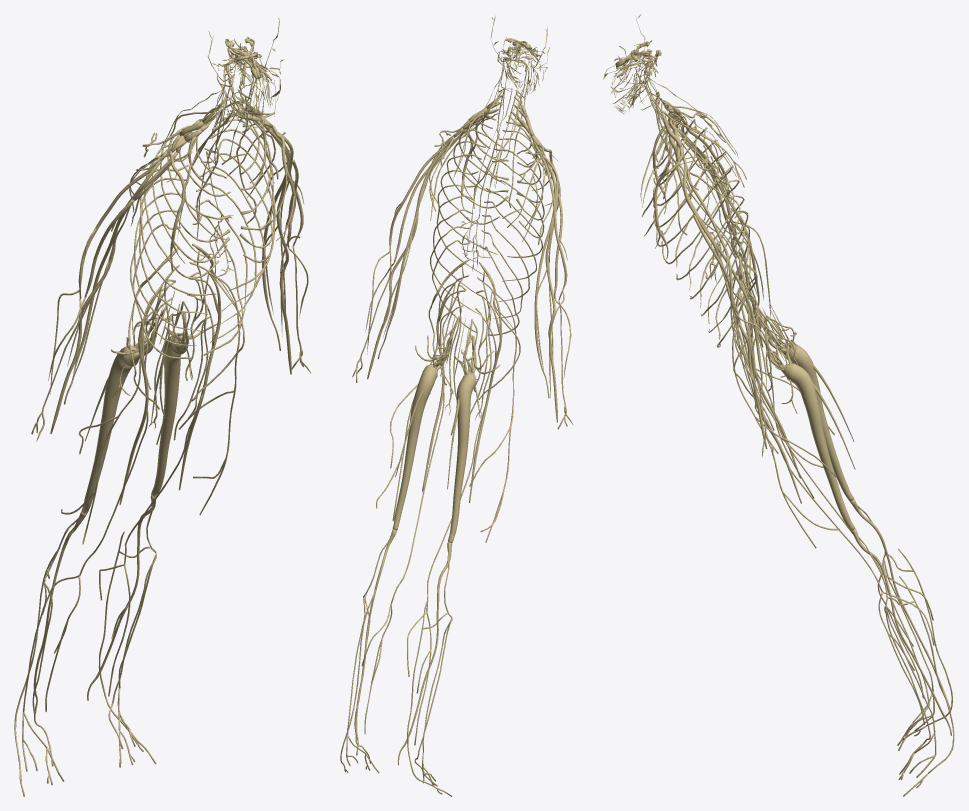
Rendered from atlas_nervous_mni152.peripheral.LOD4.glb.
The picture shows the model from 3 angles, left to right: view 1: azimuth 30°, elevation 25°; view 2: azimuth 150°, elevation 25°; view 3: azimuth 270°, elevation 25°; orthographic projection. The views are drawn at different scales.
Visible parts, largest first — view 1: ATLAS.NERVOUS.MNI152.PERIPHERAL.INTERCOSTAL_NERVES_RIGHT.R, ATLAS.NERVOUS.MNI152.PERIPHERAL.INTERCOSTAL_NERVES_LEFT.L, ATLAS.NERVOUS.MNI152.PERIPHERAL.SCIATIC_NERVE_RIGHT.R, ATLAS.NERVOUS.MNI152.PERIPHERAL.LUMBOSACRAL_PLEXUS_PROXIMAL_ (×2), ATLAS.NERVOUS.MNI152.PERIPHERAL.SCIATIC_NERVE_LEFT.L, ATLAS.NERVOUS.MNI152.PERIPHERAL.MEDIAL_AND_LATERAL_PECTORAL_ (×2), ATLAS.NERVOUS.MNI152.PERIPHERAL.LATERAL_FEMORAL_CUTANEOUS_NE (×2), ATLAS.NERVOUS.MNI152.PERIPHERAL.MEDIAN_NERVE_RIGHT.R, ATLAS.NERVOUS.MNI152.PERIPHERAL.FEMORAL_NERVE_LEFT.L, ATLAS.NERVOUS.MNI152.PERIPHERAL.SAPHENOUS_NERVE_LEFT.L, ATLAS.NERVOUS.MNI152.PERIPHERAL.FEMORAL_NERVE_RIGHT.R, ATLAS.NERVOUS.MNI152.PERIPHERAL.MEDIAN_NERVE_LEFT.L (+13 smaller); view 2: ATLAS.NERVOUS.MNI152.PERIPHERAL.INTERCOSTAL_NERVES_LEFT.L, ATLAS.NERVOUS.MNI152.PERIPHERAL.INTERCOSTAL_NERVES_RIGHT.R, ATLAS.NERVOUS.MNI152.PERIPHERAL.SCIATIC_NERVE_RIGHT.R, ATLAS.NERVOUS.MNI152.PERIPHERAL.LUMBOSACRAL_PLEXUS_PROXIMAL_ (×2), ATLAS.NERVOUS.MNI152.PERIPHERAL.SCIATIC_NERVE_LEFT.L, ATLAS.NERVOUS.MNI152.PERIPHERAL.LATERAL_FEMORAL_CUTANEOUS_NE (×2), ATLAS.NERVOUS.MNI152.PERIPHERAL.SAPHENOUS_NERVE_LEFT.L, ATLAS.NERVOUS.MNI152.PERIPHERAL.SAPHENOUS_NERVE_RIGHT.R, ATLAS.NERVOUS.MNI152.PERIPHERAL.FEMORAL_NERVE_RIGHT.R, ATLAS.NERVOUS.MNI152.PERIPHERAL.MEDIAN_NERVE_RIGHT.R, ATLAS.NERVOUS.MNI152.PERIPHERAL.FEMORAL_NERVE_LEFT.L, ATLAS.NERVOUS.MNI152.PERIPHERAL.ULNAR_NERVE_LEFT.L (+10 smaller); view 3: ATLAS.NERVOUS.MNI152.PERIPHERAL.SCIATIC_NERVE_LEFT.L, ATLAS.NERVOUS.MNI152.PERIPHERAL.INTERCOSTAL_NERVES_LEFT.L, ATLAS.NERVOUS.MNI152.PERIPHERAL.INTERCOSTAL_NERVES_RIGHT.R, ATLAS.NERVOUS.MNI152.PERIPHERAL.LUMBOSACRAL_PLEXUS_PROXIMAL_ (×2), ATLAS.NERVOUS.MNI152.PERIPHERAL.SCIATIC_NERVE_RIGHT.R, ATLAS.NERVOUS.MNI152.PERIPHERAL.SAPHENOUS_NERVE_RIGHT.R, ATLAS.NERVOUS.MNI152.PERIPHERAL.SAPHENOUS_NERVE_LEFT.L, ATLAS.NERVOUS.MNI152.PERIPHERAL.LATERAL_FEMORAL_CUTANEOUS_NE, ATLAS.NERVOUS.MNI152.PERIPHERAL.MEDIAN_NERVE_LEFT.L, ATLAS.NERVOUS.MNI152.PERIPHERAL.ULNAR_NERVE_LEFT.L, ATLAS.NERVOUS.MNI152.PERIPHERAL.TIBIAL_NERVE_LEFT.L, ATLAS.NERVOUS.MNI152.PERIPHERAL.FEMORAL_NERVE_LEFT.L (+2 smaller).
Boxes of the visible parts, x1,y1,x2,y2 form: ATLAS.NERVOUS.MNI152.PERIPHERAL.INTERCOSTAL_NERVES_RIGHT.R: [130, 122, 230, 358]; ATLAS.NERVOUS.MNI152.PERIPHERAL.INTERCOSTAL_NERVES_LEFT.L: [192, 113, 275, 355]; ATLAS.NERVOUS.MNI152.PERIPHERAL.SCIATIC_NERVE_RIGHT.R: [81, 318, 157, 514]; ATLAS.NERVOUS.MNI152.PERIPHERAL.LUMBOSACRAL_PLEXUS_PROXIMAL_ (×2): [111, 244, 244, 409]; ATLAS.NERVOUS.MNI152.PERIPHERAL.SCIATIC_NERVE_LEFT.L: [151, 312, 188, 497]; ATLAS.NERVOUS.MNI152.PERIPHERAL.MEDIAL_AND_LATERAL_PECTORAL_ (×2): [166, 121, 296, 269]; ATLAS.NERVOUS.MNI152.PERIPHERAL.LATERAL_FEMORAL_CUTANEOUS_NE (×2): [61, 272, 240, 544]; ATLAS.NERVOUS.MNI152.PERIPHERAL.MEDIAN_NERVE_RIGHT.R: [50, 151, 167, 433]; ATLAS.NERVOUS.MNI152.PERIPHERAL.FEMORAL_NERVE_LEFT.L: [178, 261, 221, 490]; ATLAS.NERVOUS.MNI152.PERIPHERAL.SAPHENOUS_NERVE_LEFT.L: [99, 394, 202, 696]; ATLAS.NERVOUS.MNI152.PERIPHERAL.FEMORAL_NERVE_RIGHT.R: [119, 265, 179, 504]; ATLAS.NERVOUS.MNI152.PERIPHERAL.MEDIAN_NERVE_LEFT.L: [269, 127, 293, 374]; ATLAS.NERVOUS.MNI152.PERIPHERAL.INTERCOSTAL_NERVES_LEFT.L: [430, 118, 508, 332]; ATLAS.NERVOUS.MNI152.PERIPHERAL.INTERCOSTAL_NERVES_RIGHT.R: [479, 122, 544, 335]; ATLAS.NERVOUS.MNI152.PERIPHERAL.SCIATIC_NERVE_RIGHT.R: [448, 335, 476, 542]; ATLAS.NERVOUS.MNI152.PERIPHERAL.LUMBOSACRAL_PLEXUS_PROXIMAL_ (×2): [415, 259, 520, 417]; ATLAS.NERVOUS.MNI152.PERIPHERAL.SCIATIC_NERVE_LEFT.L: [392, 333, 450, 530]; ATLAS.NERVOUS.MNI152.PERIPHERAL.LATERAL_FEMORAL_CUTANEOUS_NE (×2): [376, 282, 516, 542]; ATLAS.NERVOUS.MNI152.PERIPHERAL.SAPHENOUS_NERVE_LEFT.L: [361, 389, 444, 733]; ATLAS.NERVOUS.MNI152.PERIPHERAL.SAPHENOUS_NERVE_RIGHT.R: [407, 406, 484, 745]; ATLAS.NERVOUS.MNI152.PERIPHERAL.FEMORAL_NERVE_RIGHT.R: [469, 277, 502, 502]; ATLAS.NERVOUS.MNI152.PERIPHERAL.MEDIAN_NERVE_RIGHT.R: [540, 151, 558, 422]; ATLAS.NERVOUS.MNI152.PERIPHERAL.FEMORAL_NERVE_LEFT.L: [422, 275, 469, 492]; ATLAS.NERVOUS.MNI152.PERIPHERAL.ULNAR_NERVE_LEFT.L: [377, 129, 465, 359]; ATLAS.NERVOUS.MNI152.PERIPHERAL.SCIATIC_NERVE_LEFT.L: [765, 329, 854, 530]; ATLAS.NERVOUS.MNI152.PERIPHERAL.INTERCOSTAL_NERVES_LEFT.L: [653, 124, 750, 347]; ATLAS.NERVOUS.MNI152.PERIPHERAL.INTERCOSTAL_NERVES_RIGHT.R: [653, 116, 749, 339]; ATLAS.NERVOUS.MNI152.PERIPHERAL.LUMBOSACRAL_PLEXUS_PROXIMAL_ (×2): [732, 251, 798, 413]; ATLAS.NERVOUS.MNI152.PERIPHERAL.SCIATIC_NERVE_RIGHT.R: [765, 319, 853, 501]; ATLAS.NERVOUS.MNI152.PERIPHERAL.SAPHENOUS_NERVE_RIGHT.R: [757, 381, 933, 698]; ATLAS.NERVOUS.MNI152.PERIPHERAL.SAPHENOUS_NERVE_LEFT.L: [761, 415, 934, 724]; ATLAS.NERVOUS.MNI152.PERIPHERAL.LATERAL_FEMORAL_CUTANEOUS_NE: [732, 291, 839, 548]; ATLAS.NERVOUS.MNI152.PERIPHERAL.MEDIAN_NERVE_LEFT.L: [683, 165, 767, 448]; ATLAS.NERVOUS.MNI152.PERIPHERAL.ULNAR_NERVE_LEFT.L: [675, 161, 763, 418]; ATLAS.NERVOUS.MNI152.PERIPHERAL.TIBIAL_NERVE_LEFT.L: [851, 528, 951, 735]; ATLAS.NERVOUS.MNI152.PERIPHERAL.FEMORAL_NERVE_LEFT.L: [739, 279, 801, 503].
Bounding box in the file's own units: 0.5893 × 1.77 × 0.7594.
